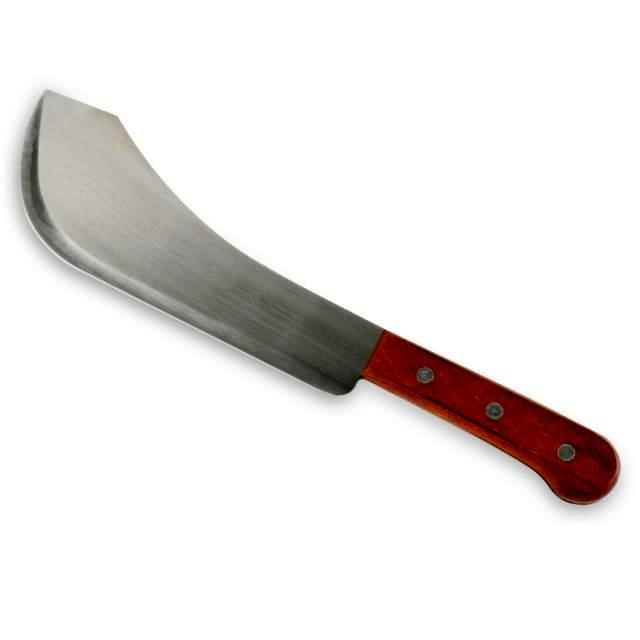long knife: (21, 63, 607, 540)
